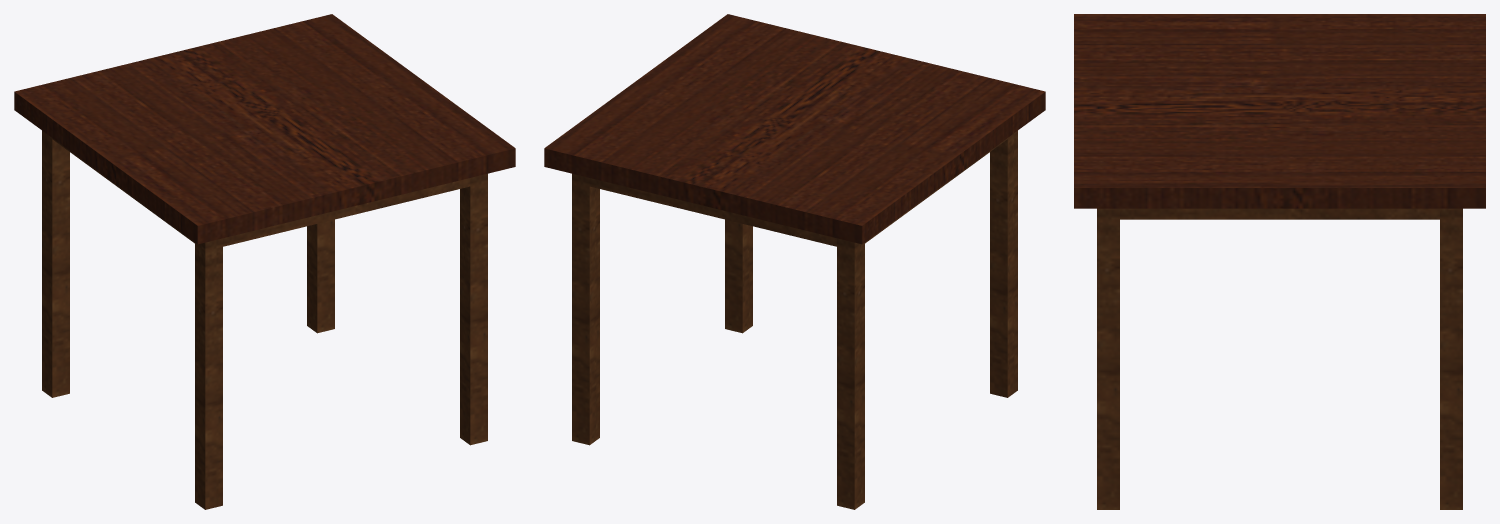
File: Bedsidetable.fbx
3 views of the same model, side by side, from view 1: azimuth 30°, elevation 25°; view 2: azimuth 150°, elevation 25°; view 3: azimuth 270°, elevation 25° (orthographic). The views are drawn at different scales.
Parts seen in each view (by area): view 1: cube_4, cube_1, cube_2, cube_3, cube, cube_5; view 2: cube_4, cube_3, cube, cube_2, cube_1, cube_6; view 3: cube_4, cube, cube_1, cube_7.
Part boxes in pixels (x1,y1,x2,y2): cube_4: [14, 14, 515, 244]; cube_1: [460, 173, 487, 445]; cube_2: [195, 244, 222, 509]; cube_3: [42, 130, 69, 397]; cube: [307, 219, 334, 333]; cube_5: [223, 178, 470, 246]; cube_4: [544, 14, 1045, 244]; cube_3: [837, 238, 864, 509]; cube: [572, 173, 599, 445]; cube_2: [990, 132, 1017, 397]; cube_1: [725, 219, 752, 333]; cube_6: [589, 178, 836, 246]; cube_4: [1074, 14, 1485, 208]; cube: [1440, 208, 1462, 509]; cube_1: [1097, 208, 1119, 509]; cube_7: [1120, 208, 1439, 219].
Size of the model in its own units: 112 by 100 by 112.
Materials: 2 (2 with a texture image).
